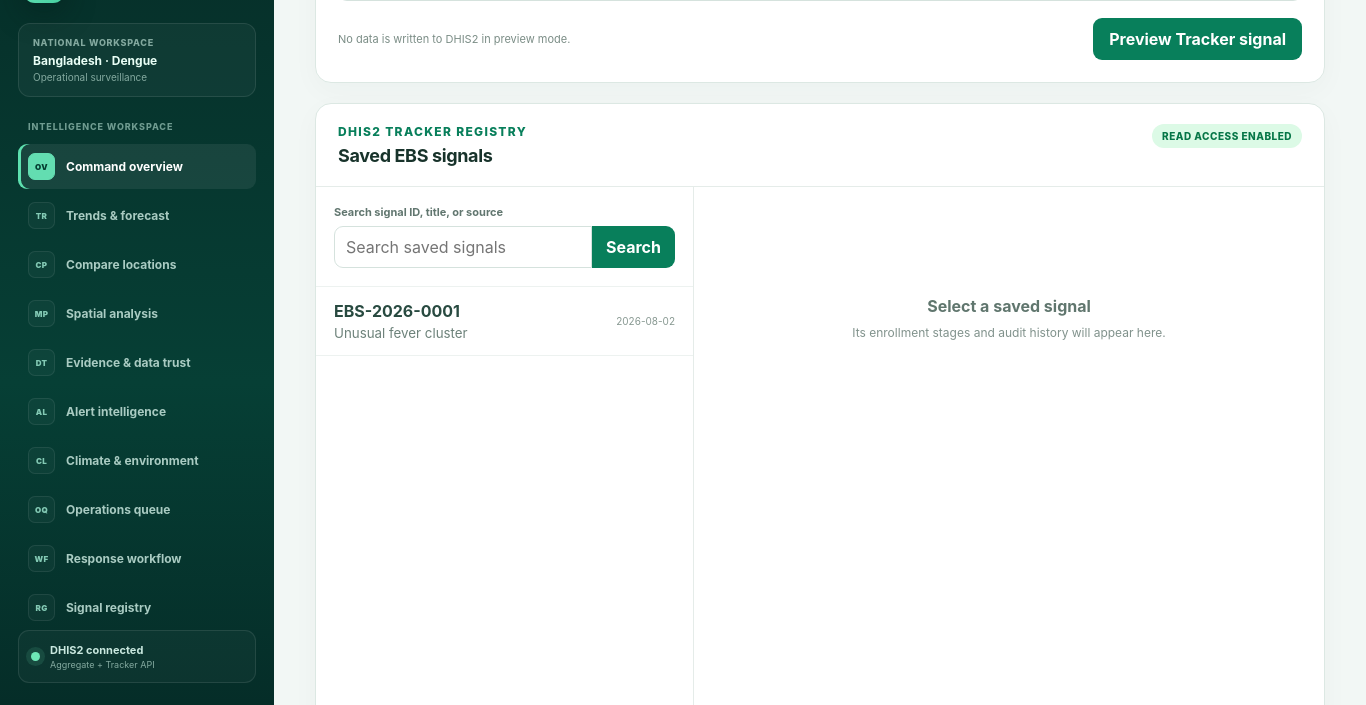
Scenario: loads a saved DHIS2 signal and displays its event history
(page scrolled)
Click the button "EBS-2026-0001 Unusual fever cluster 2026-08-02" at (397, 311), box [316,287,693,356]
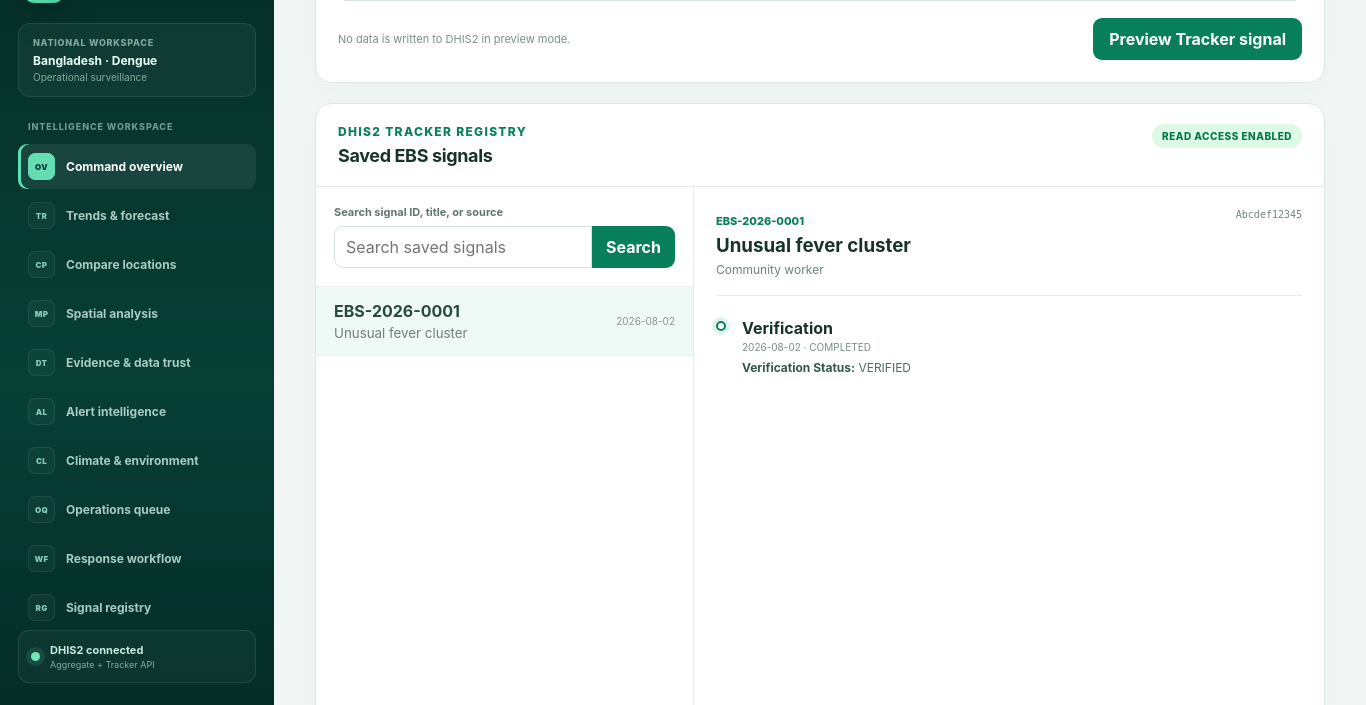
Check: the heading "Unusual fever cluster" is shown, box [716,234,911,257]
Check: the text "Verification Status:" is shown, box [742,360,855,375]
